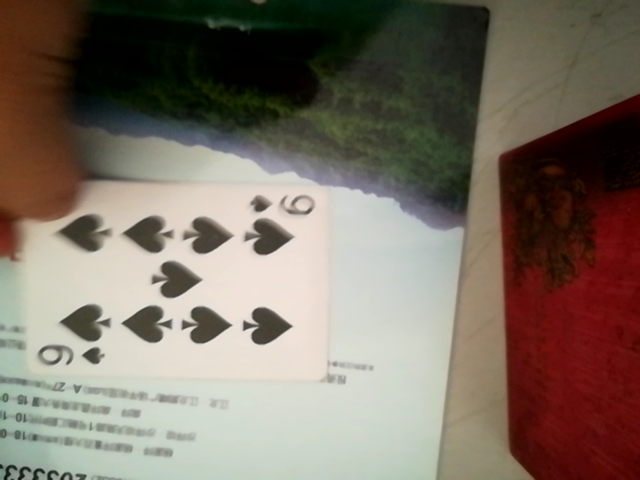ht 9: (14, 174, 330, 387)
